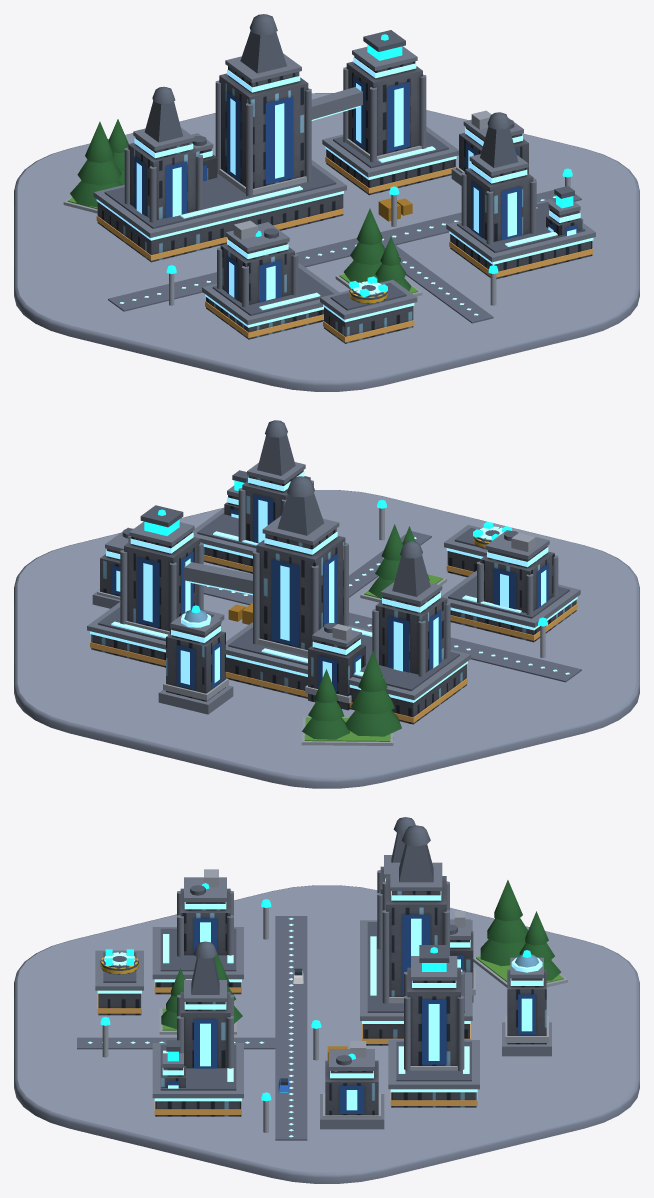
Rendered from district_scifi_blue.glb.
3 views of the same model, one above another, from view 1: azimuth 30°, elevation 25°; view 2: azimuth 150°, elevation 25°; view 3: azimuth 270°, elevation 25° (orthographic).
Visible parts, largest first — view 1: district_scifi_blue; view 2: district_scifi_blue; view 3: district_scifi_blue.
Part boxes in pixels (box(x1,y1,x2,y2)): district_scifi_blue: box(14, 14, 639, 391); district_scifi_blue: box(14, 420, 639, 788); district_scifi_blue: box(14, 817, 639, 1183).
Size of the model in its own units: 1.92 by 0.6313 by 1.75.
Materials: 3 (1 with a texture image).
